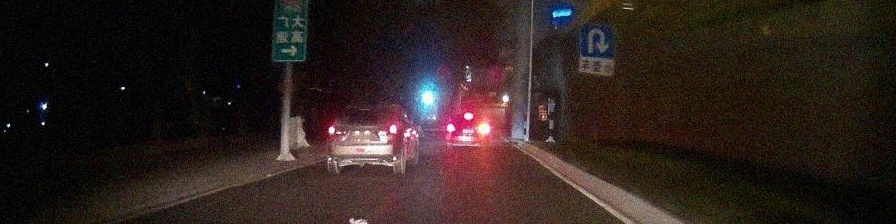L_light: (329, 126, 344, 135), (448, 125, 455, 131)
R_light: (379, 126, 397, 134), (478, 125, 487, 131)
T_light: (361, 108, 374, 112), (464, 114, 473, 119)
night-no: (327, 103, 399, 174)
night-right: (447, 114, 487, 148)
